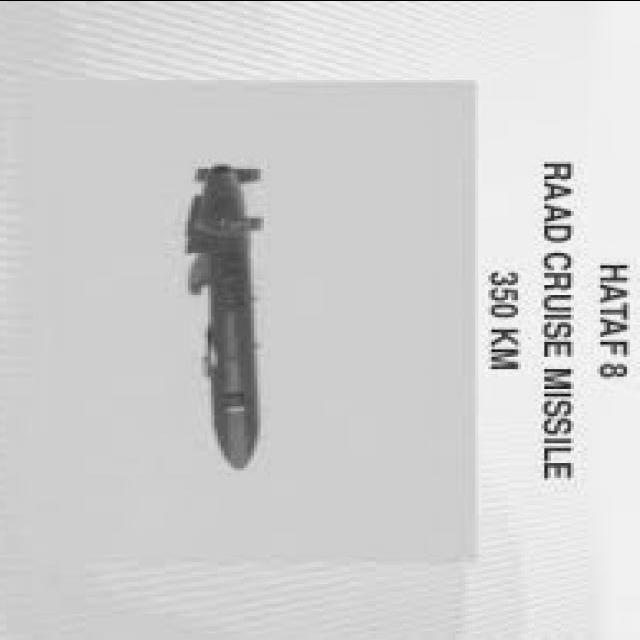Missile: (173, 145, 265, 477)
